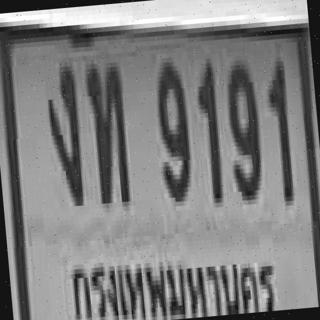A07: (42, 59, 83, 201)
A23: (83, 57, 130, 204)
N01: (263, 54, 294, 200), (192, 54, 222, 199)
N09: (151, 54, 192, 196), (223, 53, 262, 194)
P04: (64, 238, 278, 320)
